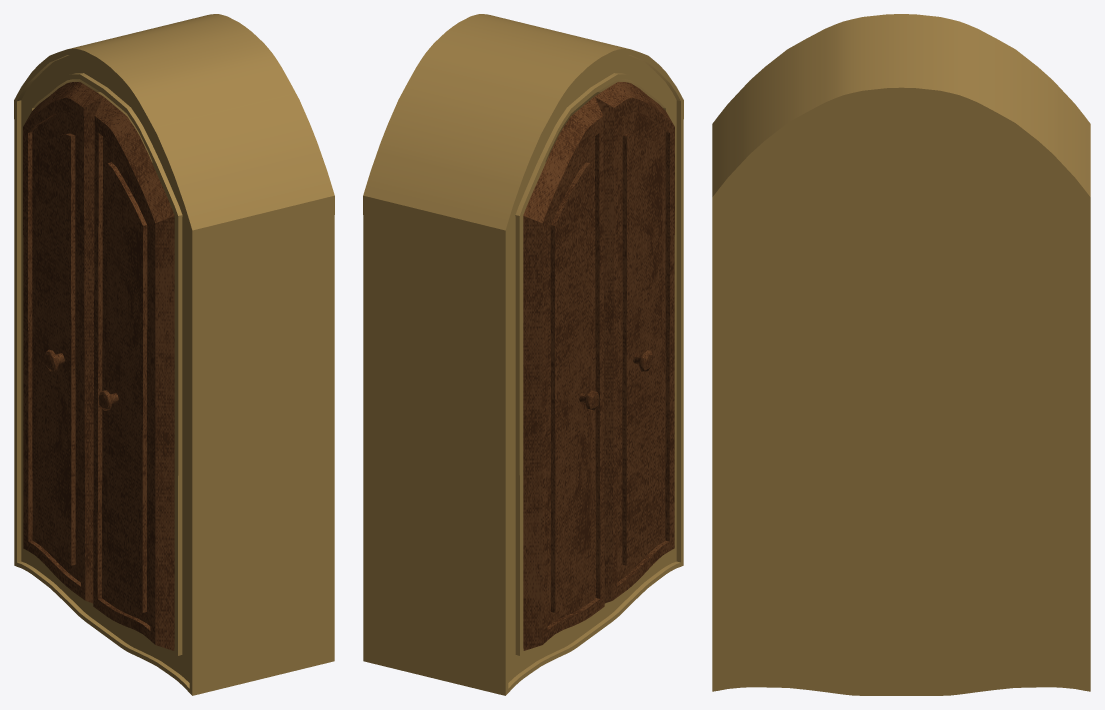
File: closet.fbx
3 views of the same model, side by side, from view 1: azimuth 30°, elevation 25°; view 2: azimuth 150°, elevation 25°; view 3: azimuth 270°, elevation 25° (orthographic). The views are drawn at different scales.
Visible parts, largest first — view 1: Closet, Right, Left; view 2: Closet, Left, Right; view 3: Closet.
Boxes of the visible parts, x1,y1,x2,y2 form: Closet: (14, 14, 334, 695); Right: (93, 96, 174, 650); Left: (23, 82, 103, 603); Closet: (363, 14, 683, 695); Left: (523, 96, 604, 650); Right: (594, 82, 674, 603); Closet: (712, 14, 1090, 695).
Size of the model in its own units: 120 by 384 by 217.
